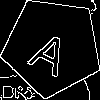A: (27, 22, 77, 78)
